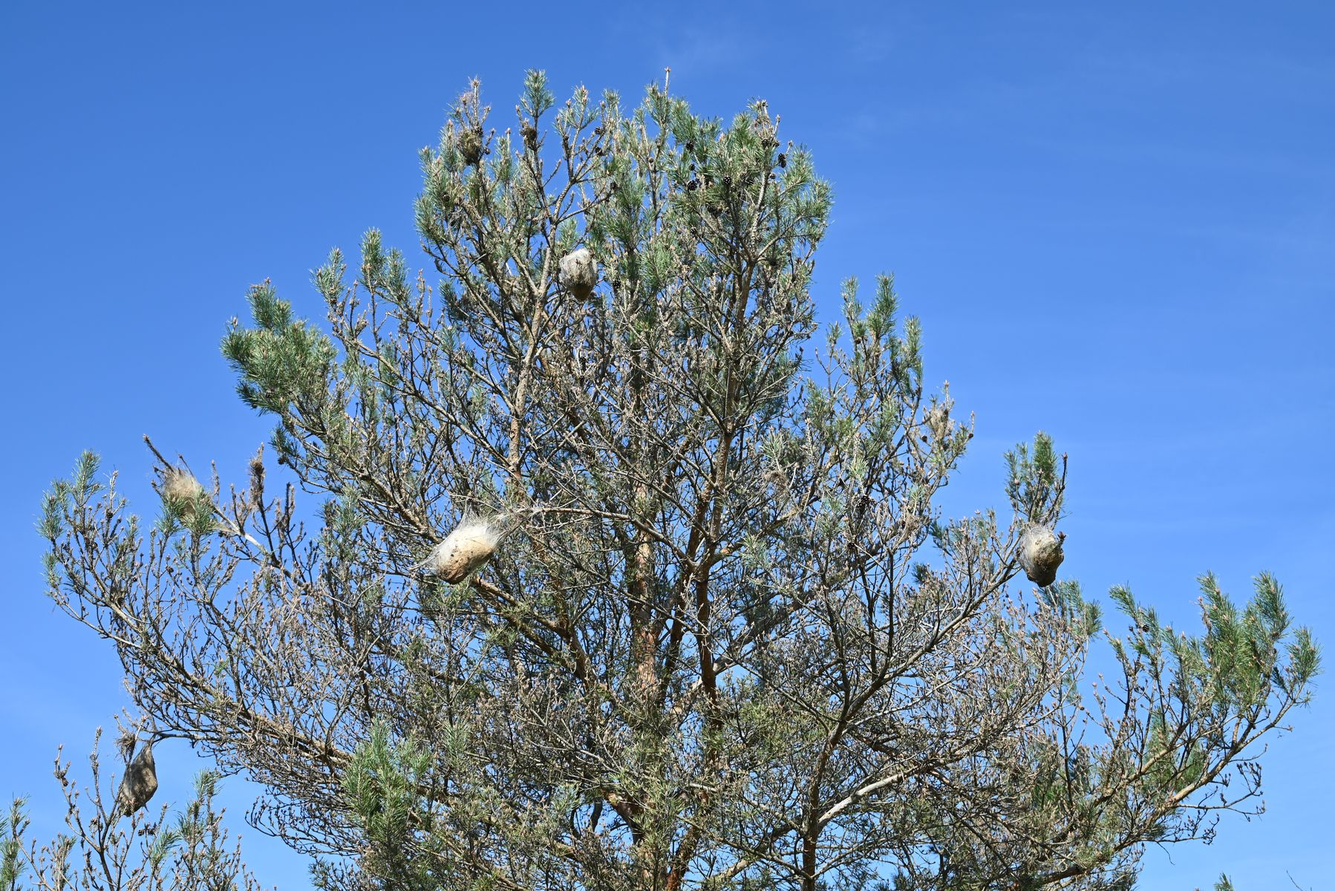thaumatopoea pityocampa jajno gnijezdo: (433, 511, 506, 579), (1016, 516, 1063, 590), (119, 738, 162, 818), (156, 463, 209, 520), (558, 242, 599, 300), (455, 116, 488, 167), (923, 399, 955, 444)
